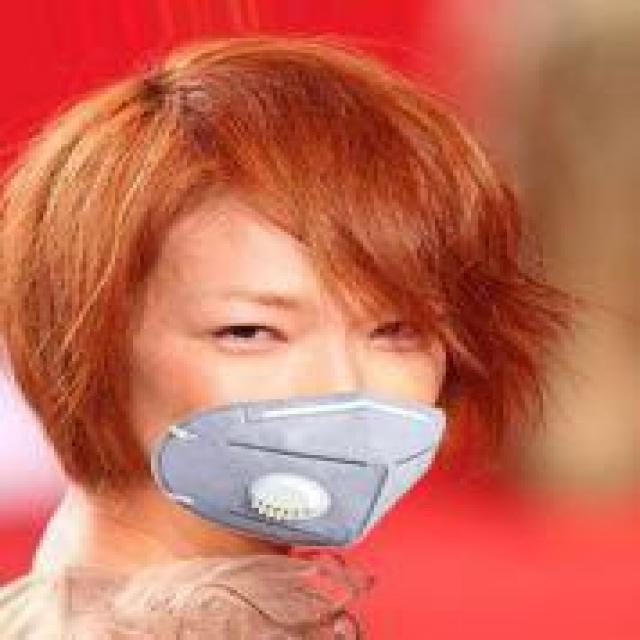mask: (58, 35, 540, 567)
